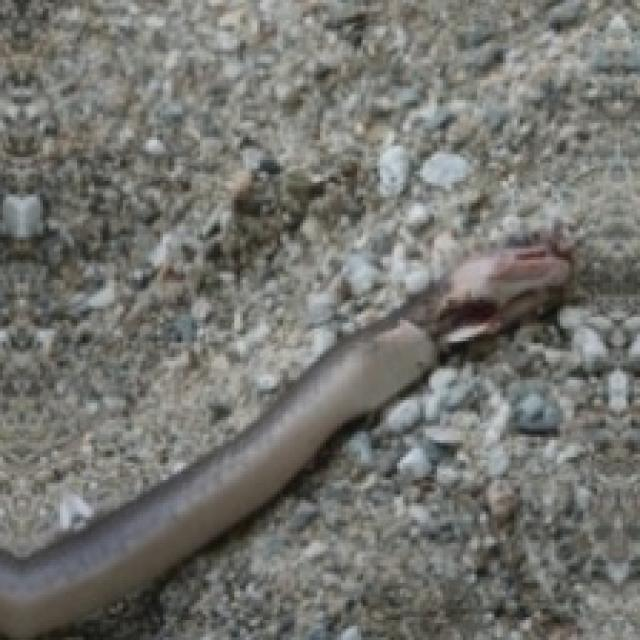reddish rat snake: (0, 231, 571, 634)
